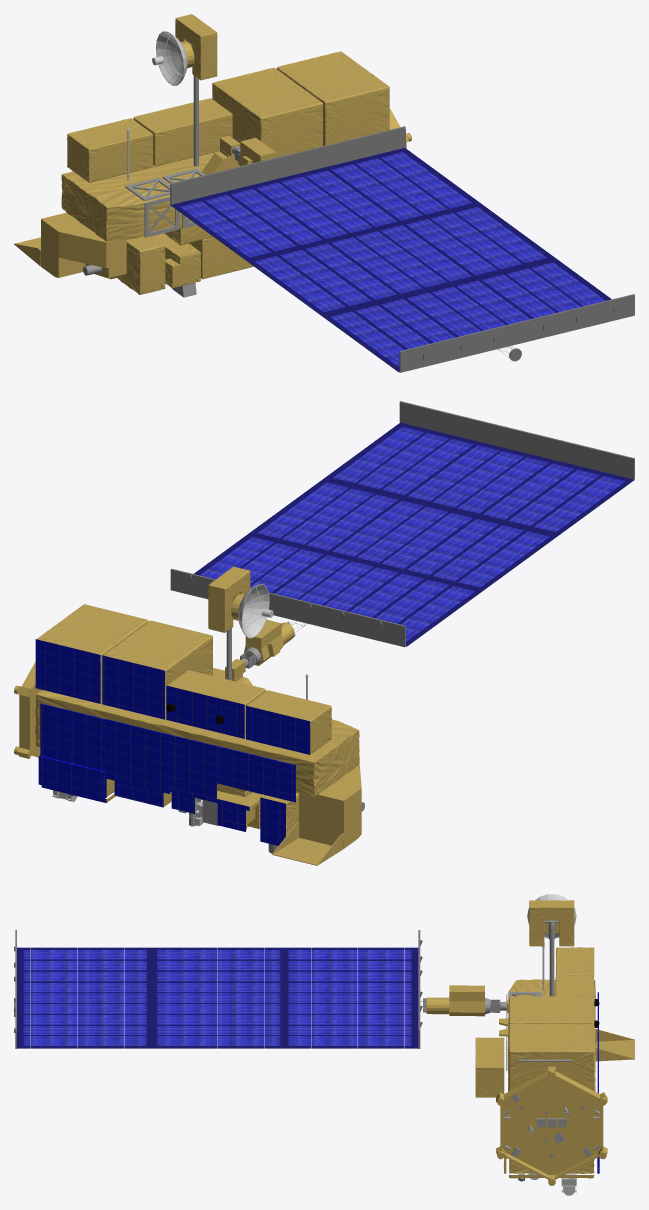
The model's file is terra.glb.
3 views of the same model, one above another, from view 1: azimuth 30°, elevation 25°; view 2: azimuth 150°, elevation 25°; view 3: azimuth 270°, elevation 25° (orthographic). The views are drawn at different scales.
Parts seen in each view (by area): view 1: Terra_vFINAL [Layer17], Terra_vFINAL [Layer16], Terra_vFINAL [Layer1], Terra_vFINAL [Layer13], Terra_vFINAL [Layer18], Terra_vFINAL [Layer2], Terra_vFINAL [Layer11], Terra_vFINAL [Layer12], Terra_vFINAL [Layer19], Terra_vFINAL [Layer3], Terra_vFINAL [Layer9], Terra_vFINAL [Layer4] (+2 smaller); view 2: Terra_vFINAL [Layer17], Terra_vFINAL [Layer15], Terra_vFINAL [Layer16], Terra_vFINAL [Layer18], Terra_vFINAL [Layer1], Terra_vFINAL [Layer13], Terra_vFINAL [Layer2], Terra_vFINAL [Layer11], Terra_vFINAL [Layer9], Terra_vFINAL [Layer12], Terra_vFINAL [Layer20], Terra_vFINAL [Layer19]; view 3: Terra_vFINAL [Layer17], Terra_vFINAL [Layer18], Terra_vFINAL [Layer2], Terra_vFINAL [Layer13], Terra_vFINAL [Layer19], Terra_vFINAL [Layer10], Terra_vFINAL [Layer9], Terra_vFINAL [Layer16], Terra_vFINAL [Layer11], Terra_vFINAL [Layer1], Terra_vFINAL [Layer12], Terra_vFINAL [Layer21].
Part boxes in pixels (left/top/right/bottom): Terra_vFINAL [Layer17]: left=171, top=148, right=611, bottom=371; Terra_vFINAL [Layer16]: left=170, top=126, right=634, bottom=372; Terra_vFINAL [Layer1]: left=61, top=151, right=219, bottom=245; Terra_vFINAL [Layer13]: left=212, top=67, right=322, bottom=157; Terra_vFINAL [Layer18]: left=14, top=41, right=411, bottom=279; Terra_vFINAL [Layer2]: left=276, top=51, right=389, bottom=145; Terra_vFINAL [Layer11]: left=67, top=118, right=152, bottom=182; Terra_vFINAL [Layer12]: left=133, top=98, right=232, bottom=166; Terra_vFINAL [Layer19]: left=83, top=75, right=240, bottom=297; Terra_vFINAL [Layer3]: left=117, top=236, right=165, bottom=294; Terra_vFINAL [Layer9]: left=175, top=14, right=217, bottom=80; Terra_vFINAL [Layer4]: left=153, top=233, right=200, bottom=288; Terra_vFINAL [Layer17]: left=194, top=422, right=634, bottom=646; Terra_vFINAL [Layer15]: left=35, top=639, right=310, bottom=845; Terra_vFINAL [Layer16]: left=170, top=401, right=634, bottom=647; Terra_vFINAL [Layer18]: left=14, top=593, right=361, bottom=865; Terra_vFINAL [Layer1]: left=35, top=673, right=359, bottom=797; Terra_vFINAL [Layer13]: left=103, top=620, right=212, bottom=718; Terra_vFINAL [Layer2]: left=37, top=604, right=148, bottom=702; Terra_vFINAL [Layer11]: left=247, top=690, right=331, bottom=754; Terra_vFINAL [Layer9]: left=208, top=566, right=250, bottom=632; Terra_vFINAL [Layer12]: left=167, top=670, right=265, bottom=737; Terra_vFINAL [Layer20]: left=238, top=584, right=273, bottom=638; Terra_vFINAL [Layer19]: left=69, top=628, right=364, bottom=853; Terra_vFINAL [Layer17]: left=17, top=947, right=418, bottom=1048; Terra_vFINAL [Layer18]: left=426, top=920, right=634, bottom=1185; Terra_vFINAL [Layer2]: left=509, top=1024, right=594, bottom=1091; Terra_vFINAL [Layer13]: left=509, top=996, right=594, bottom=1025; Terra_vFINAL [Layer19]: left=485, top=920, right=600, bottom=1181; Terra_vFINAL [Layer10]: left=475, top=1037, right=504, bottom=1097; Terra_vFINAL [Layer9]: left=529, top=900, right=574, bottom=946; Terra_vFINAL [Layer16]: left=14, top=930, right=426, bottom=1048; Terra_vFINAL [Layer11]: left=556, top=947, right=594, bottom=995; Terra_vFINAL [Layer1]: left=508, top=979, right=595, bottom=1091; Terra_vFINAL [Layer12]: left=555, top=975, right=593, bottom=996; Terra_vFINAL [Layer21]: left=527, top=946, right=576, bottom=1195.
Size of the model in its own units: 13622 by 10277 by 26054.
Materials: 11 (2 with a texture image).
